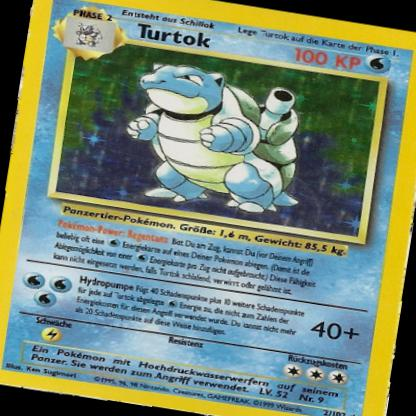Blastoise: (110, 53, 329, 224)
